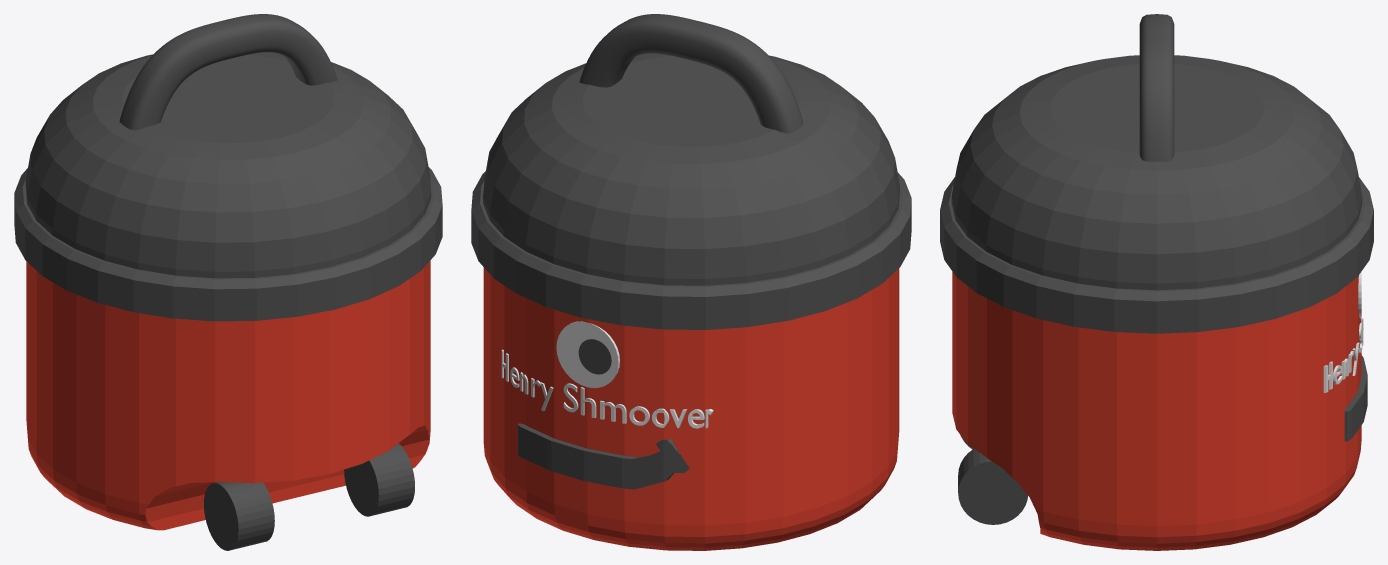
The model's file is hoover.fbx.
The picture shows the model from 3 angles, left to right: view 1: azimuth 30°, elevation 25°; view 2: azimuth 150°, elevation 25°; view 3: azimuth 270°, elevation 25°; orthographic projection. The views are drawn at different scales.
Parts seen in each view (by area): view 1: Circle, NurbsCurve, Cylinder, Cylinder.001; view 2: Circle, NurbsCurve, Plane, Circle.001, Text; view 3: Circle, NurbsCurve, Cylinder.001, Plane, Text.
Part boxes in pixels (x1=…): Circle: x1=14, y1=52, x2=442, y2=530; NurbsCurve: x1=119, y1=14, x2=337, y2=130; Cylinder: x1=204, y1=482, x2=274, y2=550; Cylinder.001: x1=344, y1=443, x2=414, y2=516; Circle: x1=471, y1=53, x2=911, y2=550; NurbsCurve: x1=579, y1=14, x2=803, y2=133; Plane: x1=518, y1=423, x2=689, y2=489; Circle.001: x1=556, y1=321, x2=619, y2=388; Text: x1=501, y1=349, x2=713, y2=428; Circle: x1=940, y1=55, x2=1373, y2=550; NurbsCurve: x1=1139, y1=14, x2=1174, y2=161; Cylinder.001: x1=958, y1=449, x2=1027, y2=524; Plane: x1=1344, y1=355, x2=1367, y2=441; Text: x1=1323, y1=318, x2=1363, y2=392.
Size of the model in its own units: 212 by 242 by 212.
